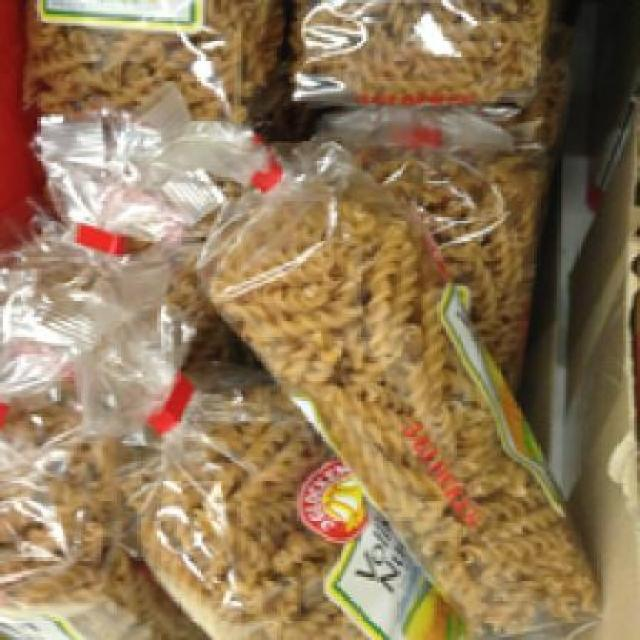Pasta: (197, 128, 612, 634), (106, 328, 440, 638)
